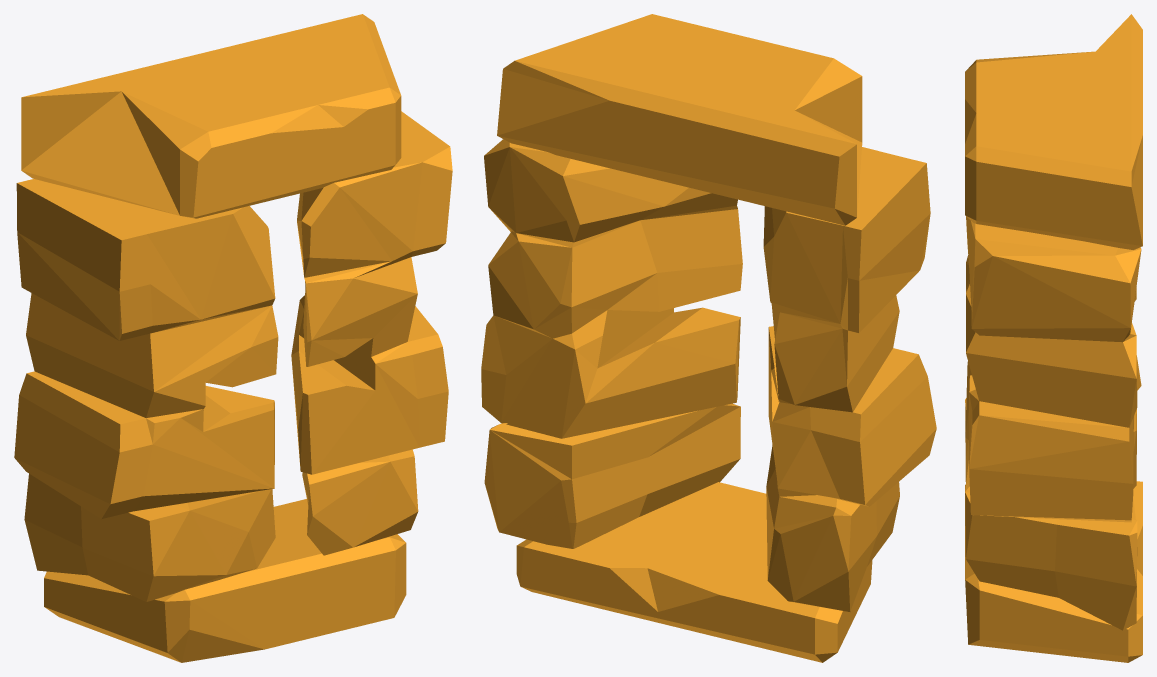
Rendered from SM_Window_Stone_Small_Cross_Fantasy.fbx.
3 renders of one model, left to right at view 1: azimuth 30°, elevation 25°; view 2: azimuth 150°, elevation 25°; view 3: azimuth 270°, elevation 25°, orthographic. The views are drawn at different scales.
Parts seen in each view (by area): view 1: SM_Window_Stone_Small_Cross_Fantasy; view 2: SM_Window_Stone_Small_Cross_Fantasy; view 3: SM_Window_Stone_Small_Cross_Fantasy.
Boxes of the visible parts, left/top/right/bottom form: SM_Window_Stone_Small_Cross_Fantasy: left=14, top=14, right=452, bottom=662; SM_Window_Stone_Small_Cross_Fantasy: left=481, top=14, right=936, bottom=662; SM_Window_Stone_Small_Cross_Fantasy: left=965, top=14, right=1142, bottom=662.
Bounding box in the file's own units: 1.4 × 1.85 × 0.5971.
